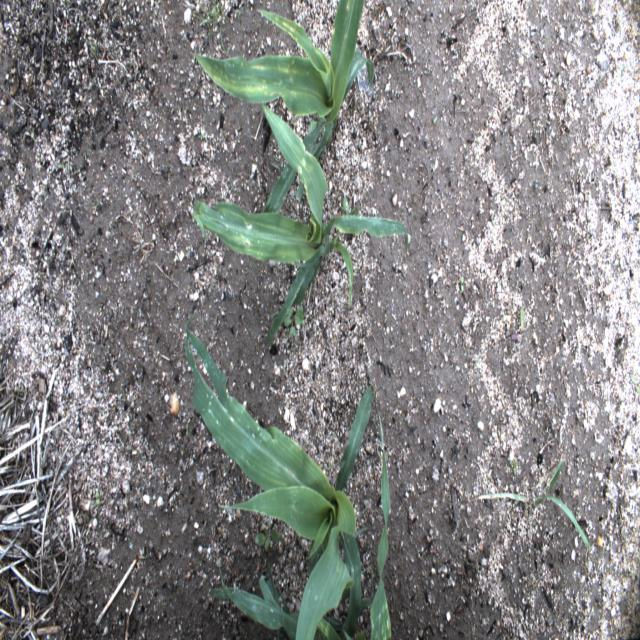crop: (183, 314, 393, 640), (191, 106, 409, 349), (192, 0, 374, 214)
weed: (475, 456, 592, 552), (190, 0, 225, 34), (283, 292, 307, 338), (255, 520, 282, 554), (80, 35, 98, 63), (630, 372, 640, 397), (361, 562, 375, 578), (518, 305, 526, 328), (509, 459, 517, 477), (94, 488, 101, 508), (459, 273, 465, 294), (184, 419, 190, 438), (58, 160, 68, 171), (237, 624, 245, 636), (25, 132, 36, 139), (234, 6, 245, 13), (293, 340, 299, 352), (92, 203, 100, 212), (82, 150, 91, 158), (199, 130, 205, 142), (432, 115, 438, 126), (536, 478, 543, 487), (118, 0, 122, 15), (272, 152, 277, 163), (119, 390, 125, 398), (464, 346, 468, 358)
